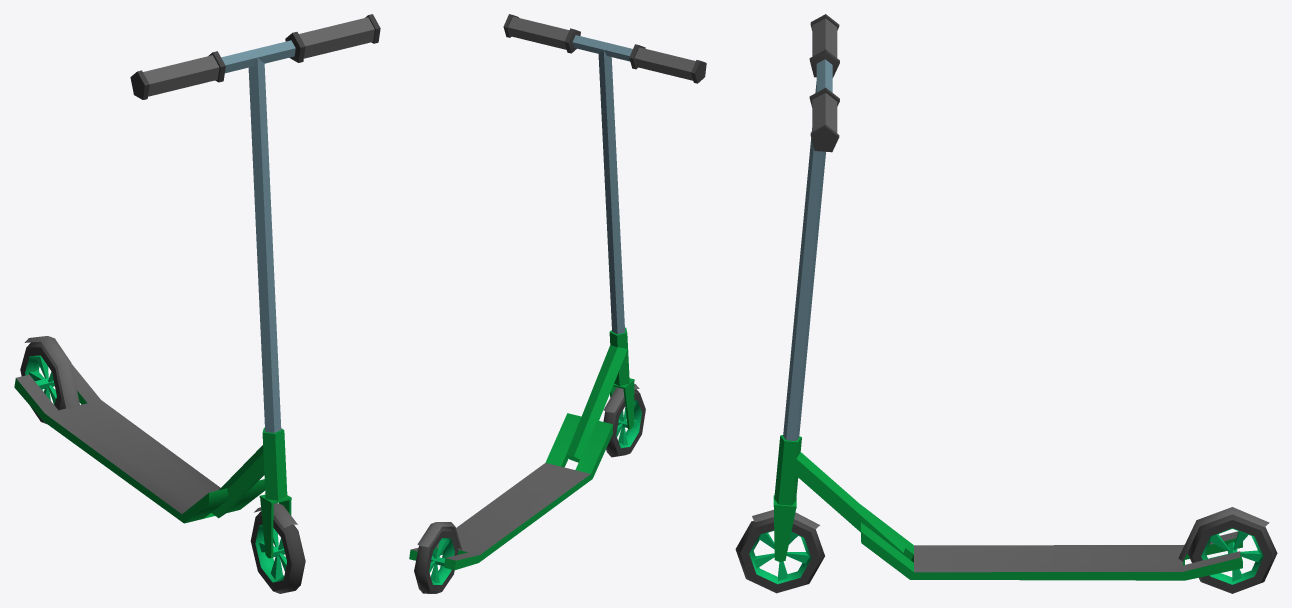
Rendered from training_item_002.glb.
The picture shows the model from 3 angles, left to right: view 1: azimuth 30°, elevation 25°; view 2: azimuth 150°, elevation 25°; view 3: azimuth 270°, elevation 25°; orthographic projection. The views are drawn at different scales.
Parts seen in each view (by area): view 1: training_item_002; view 2: training_item_002; view 3: training_item_002.
Boxes of the visible parts, bbox=[...] form: training_item_002: bbox=[14, 14, 380, 593]; training_item_002: bbox=[409, 14, 706, 593]; training_item_002: bbox=[735, 14, 1277, 593].
Bounding box in the file's own units: 0.4632 × 1 × 0.9404.
1 material, 1 textured.
